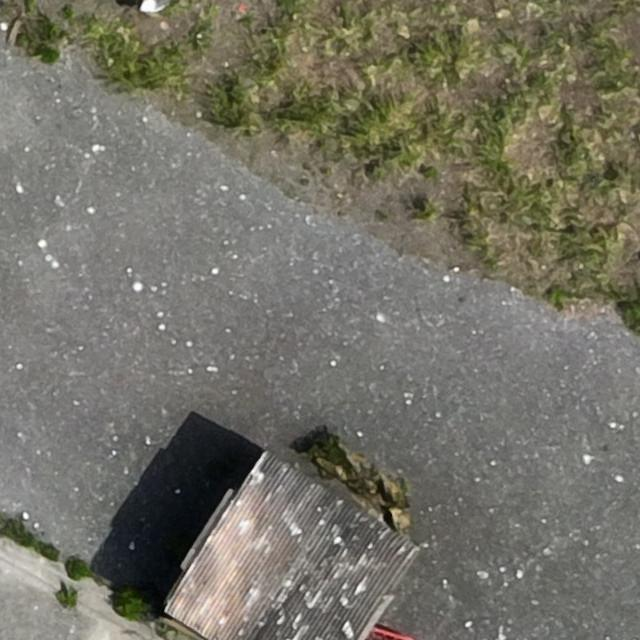umineko: (143, 0, 173, 11)
